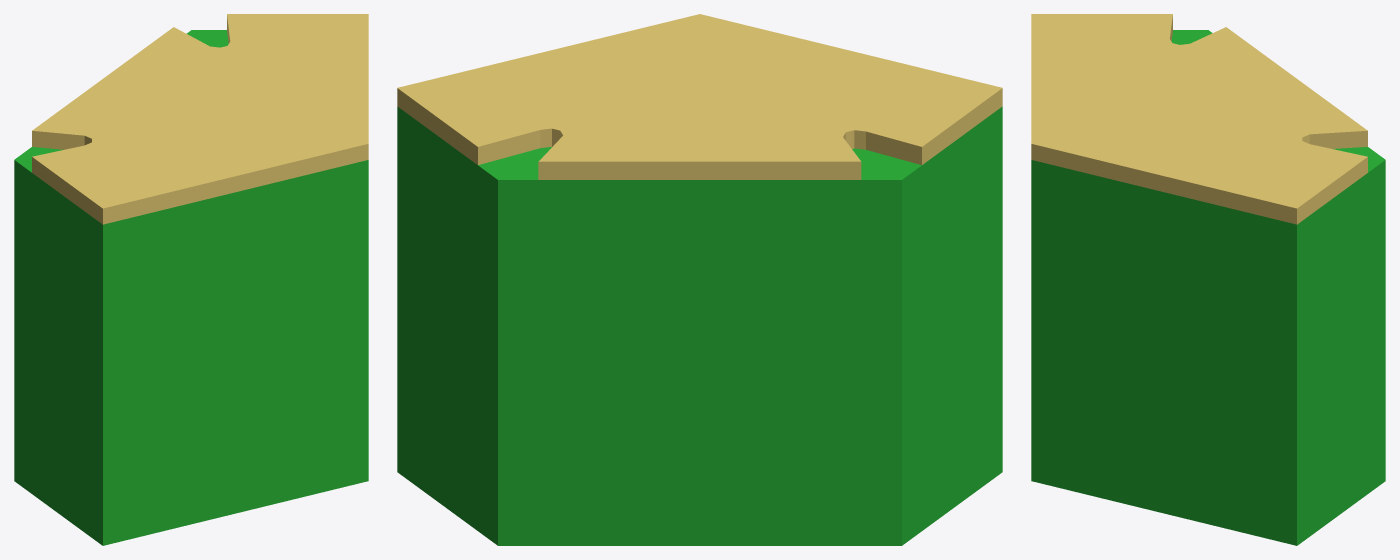
File: module-corner_land_path_full_001.glb
3 views of the same model, side by side, from view 1: azimuth 30°, elevation 25°; view 2: azimuth 150°, elevation 25°; view 3: azimuth 270°, elevation 25° (orthographic). The views are drawn at different scales.
Visible parts, largest first — view 1: module-corner_land_path_full_001; view 2: module-corner_land_path_full_001; view 3: module-corner_land_path_full_001.
Boxes of the visible parts, x1,y1,x2,y2 form: module-corner_land_path_full_001: [14, 14, 368, 545]; module-corner_land_path_full_001: [397, 14, 1002, 545]; module-corner_land_path_full_001: [1031, 14, 1385, 545].
Bounding box in the file's own units: 0.6495 × 0.525 × 0.5.
